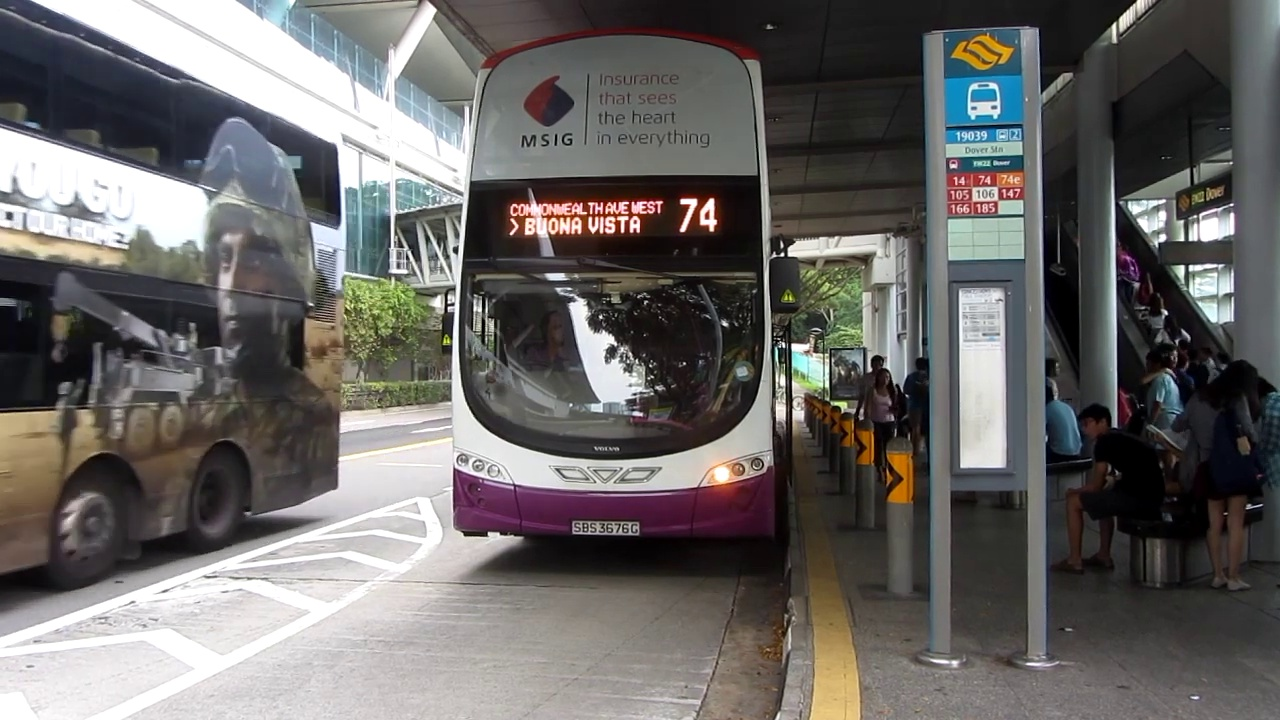bus panel: (500, 194, 724, 240)
